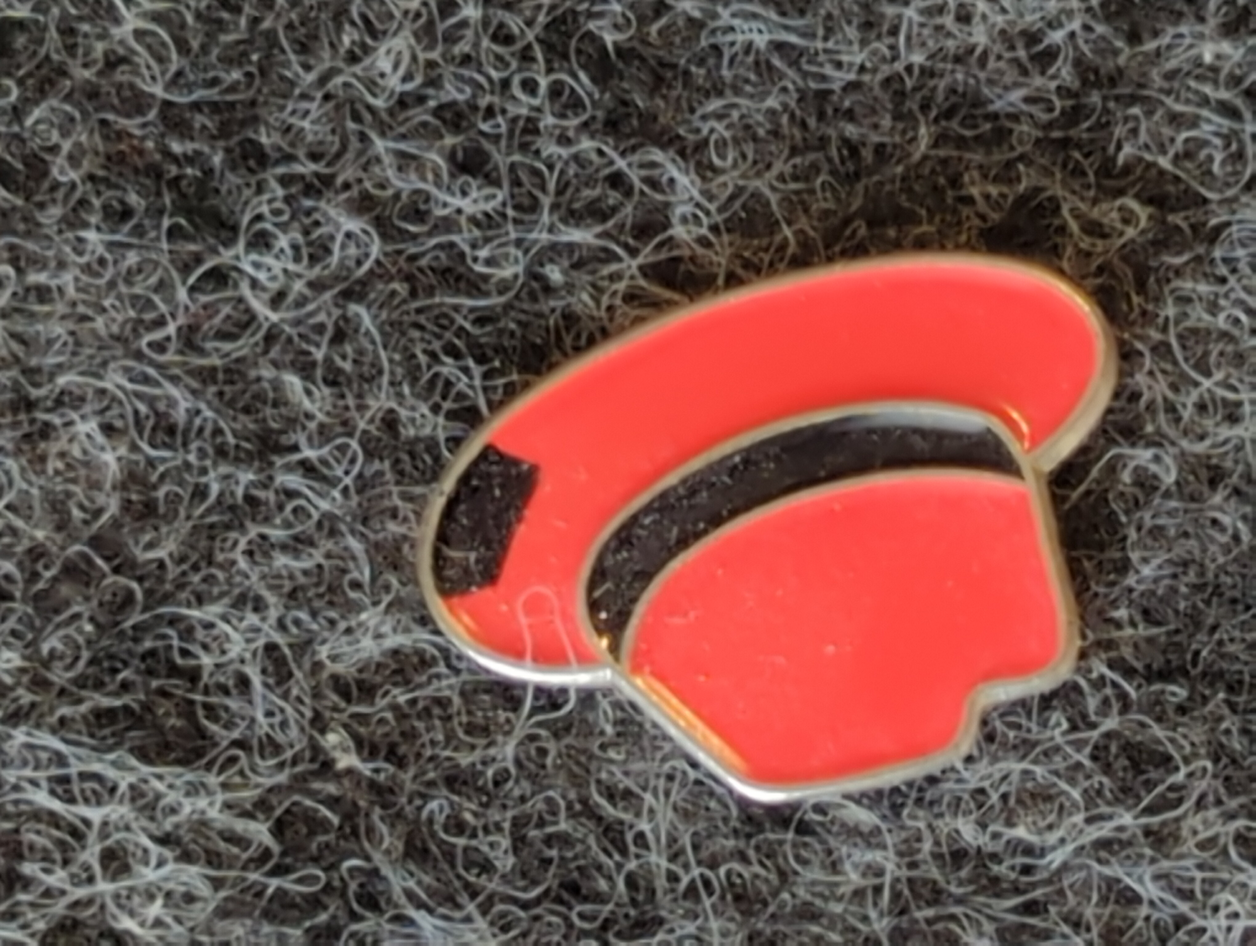Red-Hat: (301, 168, 1229, 875)
Scratch: (402, 397, 563, 659)
